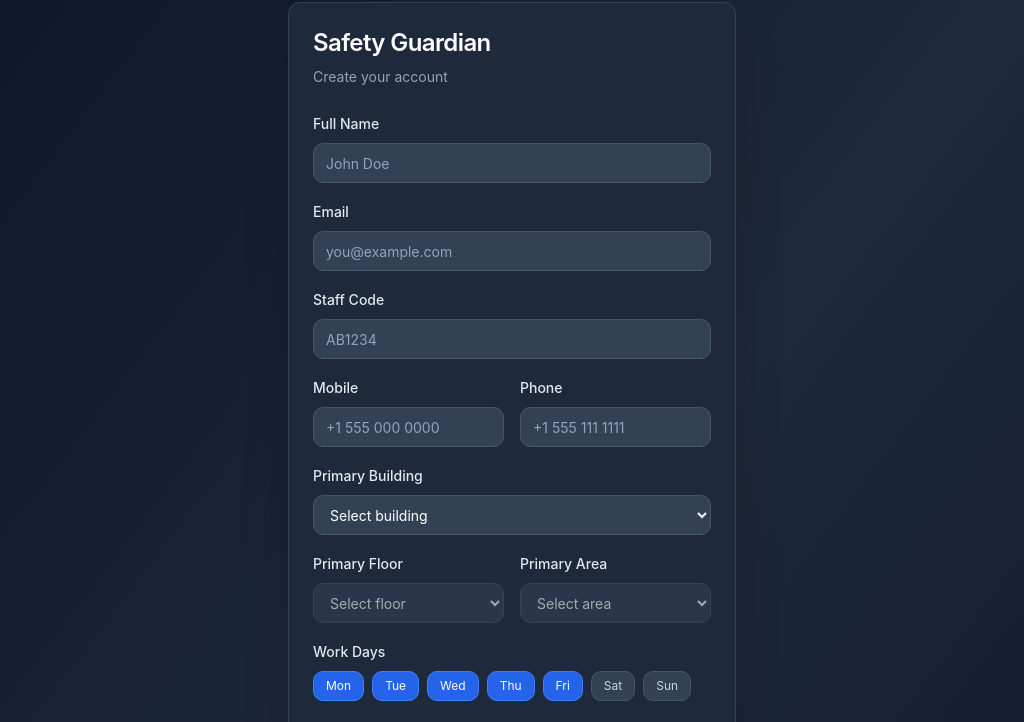
Test case: Auth page UI negative states › shows register validation for password minimum length
The image size is (1024, 722).
Type "Safety User" into the field labelled "Full Name" at (512, 163), box [313, 143, 711, 183]
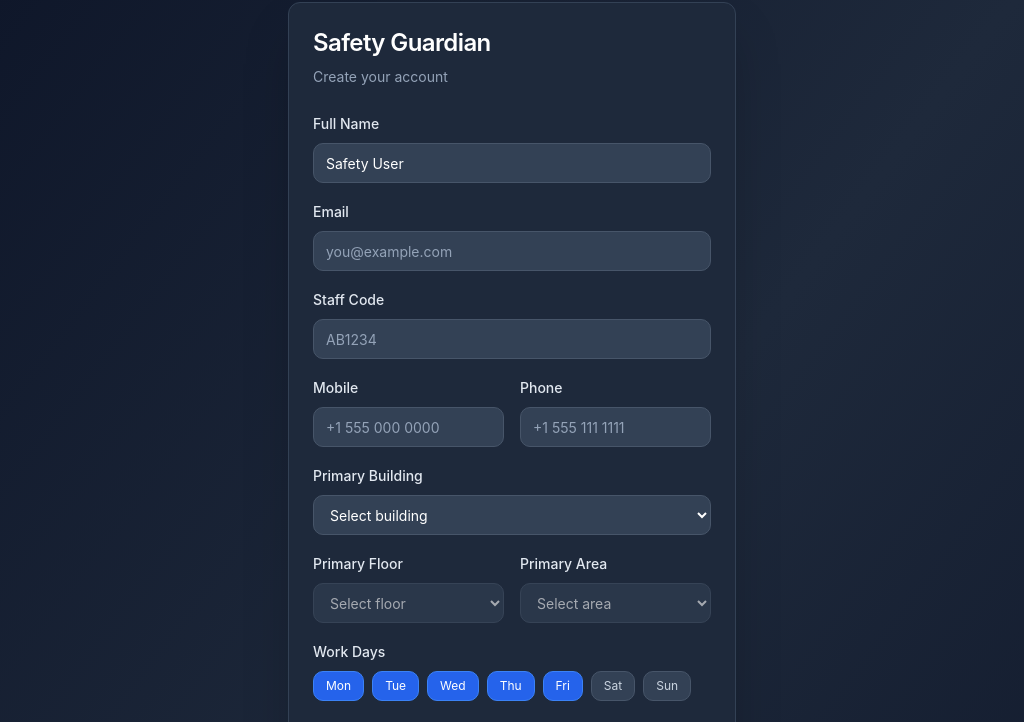
Type "user@example.com" into the field labelled "Email" at (512, 251), box [313, 231, 711, 271]
(page scrolled)
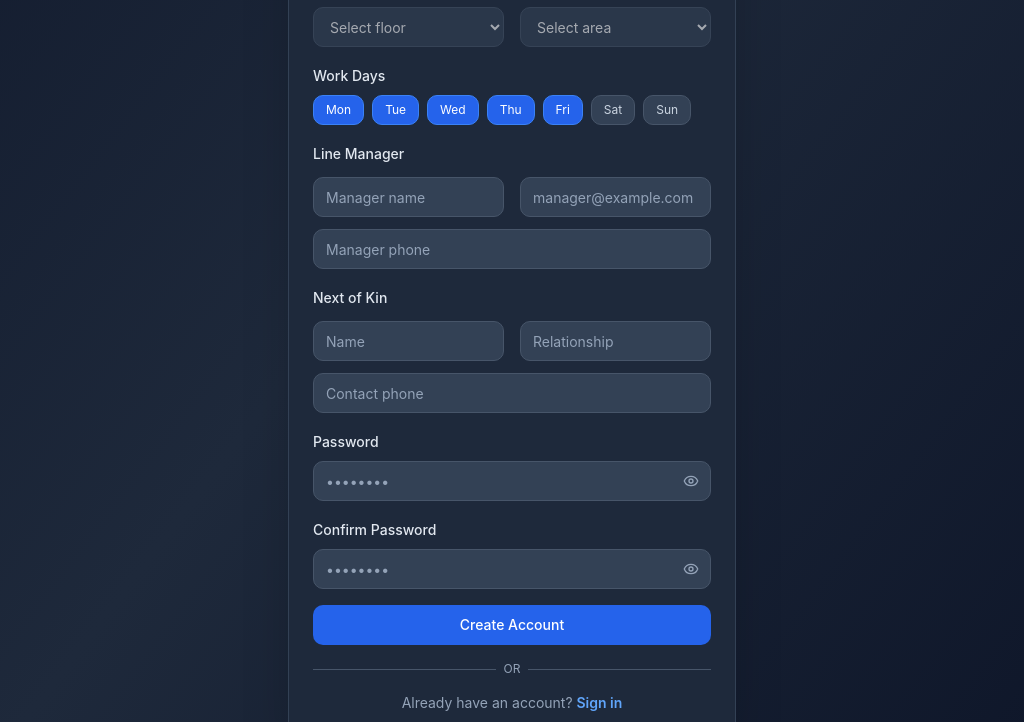
Type "12345" into the password field labelled "Password" at (512, 481), box [313, 461, 711, 501]
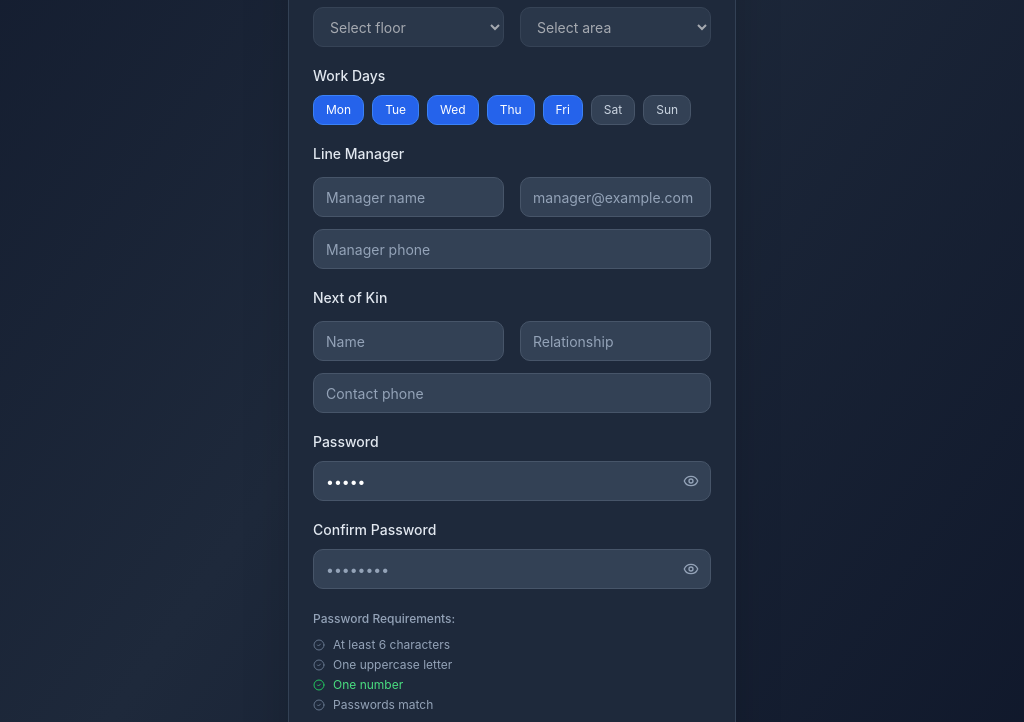
Type "12345" into the password field labelled "Confirm Password" at (512, 569), box [313, 549, 711, 589]
(page scrolled)
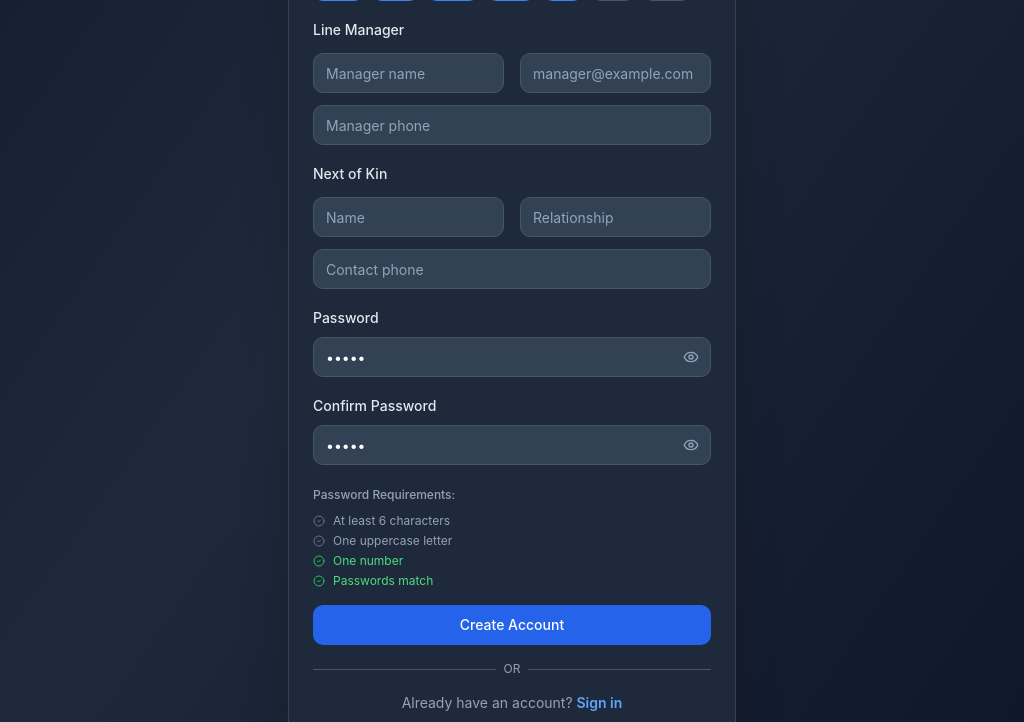
Click the button "Create Account" at (512, 625), box [313, 605, 711, 645]
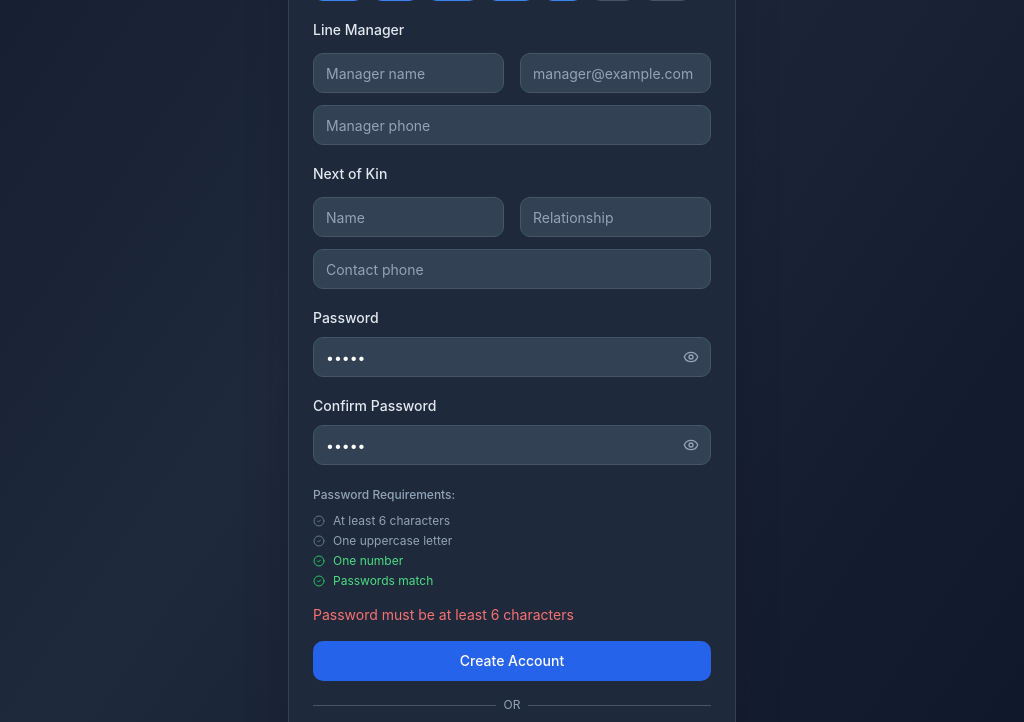
Result: the text "Password must be at least 6 characters" is shown at [313, 606, 574, 623]
